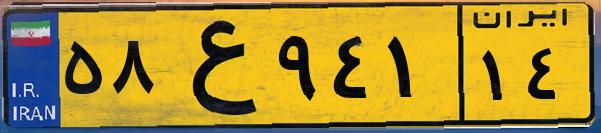1: (385, 28, 445, 110), (475, 38, 525, 113)
4: (330, 28, 385, 110), (525, 38, 570, 115)
5: (57, 26, 110, 100)
8: (110, 28, 158, 98)
9: (270, 28, 330, 110)
ع: (158, 12, 270, 120)
